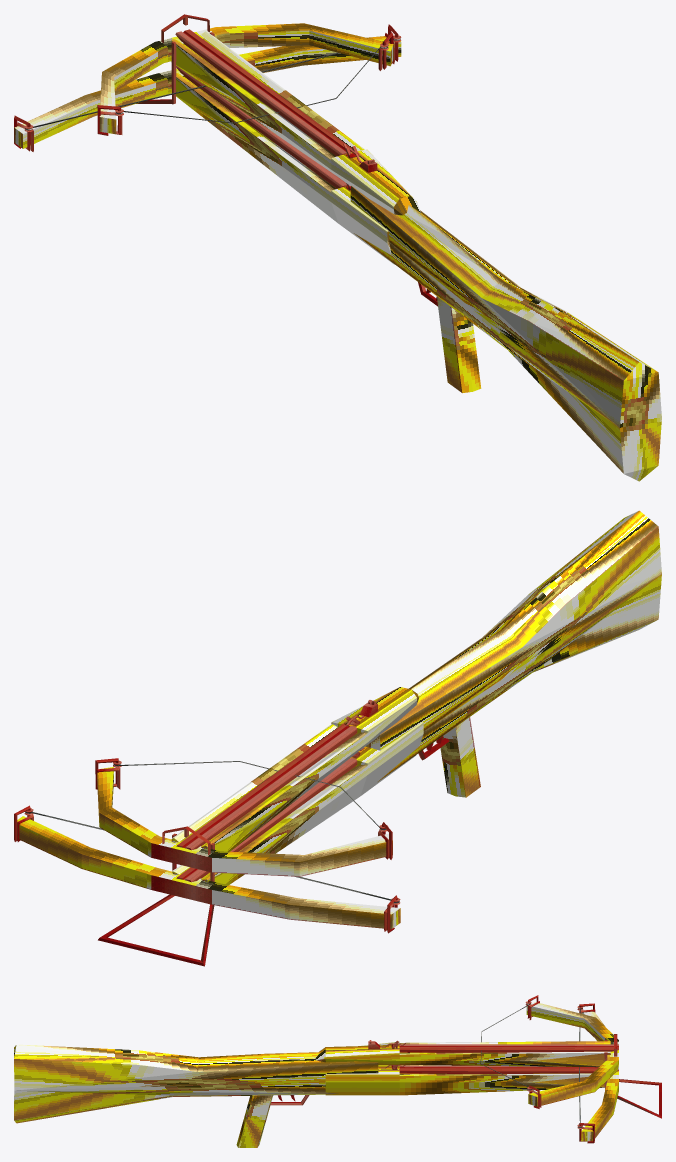
Rendered from double_crossbow_stretching_upper_3.obj.
3 renders of one model, top to bottom at view 1: azimuth 30°, elevation 25°; view 2: azimuth 150°, elevation 25°; view 3: azimuth 270°, elevation 25°, orthographic. The views are drawn at different scales.
Parts seen in each view (by area): view 1: Torus.009_Torus.008, Torus.000, Torus.001_Torus.007; view 2: Torus.009_Torus.008, Torus.000, Torus.001_Torus.007; view 3: Torus.009_Torus.008, Torus.000, Torus.001_Torus.007.
Part boxes in pixels (x1,y1,x2,y2): Torus.009_Torus.008: [343, 143, 661, 481]; Torus.000: [136, 14, 420, 264]; Torus.001_Torus.007: [14, 23, 401, 151]; Torus.009_Torus.008: [344, 510, 661, 797]; Torus.000: [98, 687, 423, 966]; Torus.001_Torus.007: [14, 758, 400, 933]; Torus.009_Torus.008: [14, 1040, 405, 1147]; Torus.000: [315, 1034, 661, 1118]; Torus.001_Torus.007: [480, 995, 618, 1143].
Bounding box in the file's own units: 3.45 × 1.45 × 7.77.
